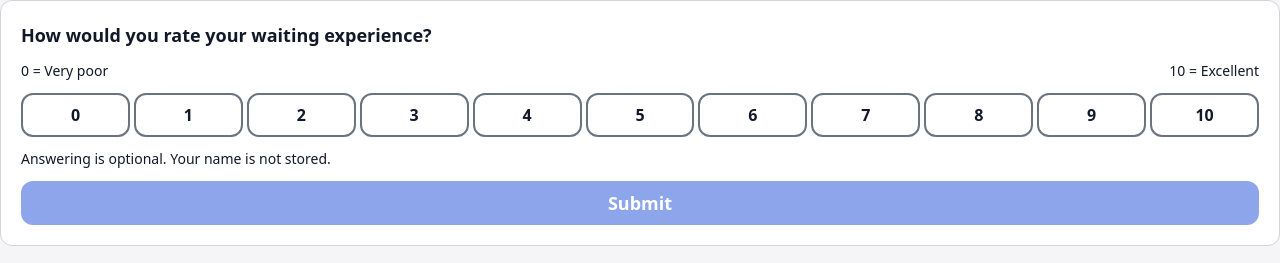
Test: SurveyBox › sends once when Submit is pressed twice while the first save runs
This screenshot has width=1280, height=263.
Later steps or results of the test are not shown.
Click the radio button labelled "6". click: [753, 115]
box: [698, 93, 807, 137]
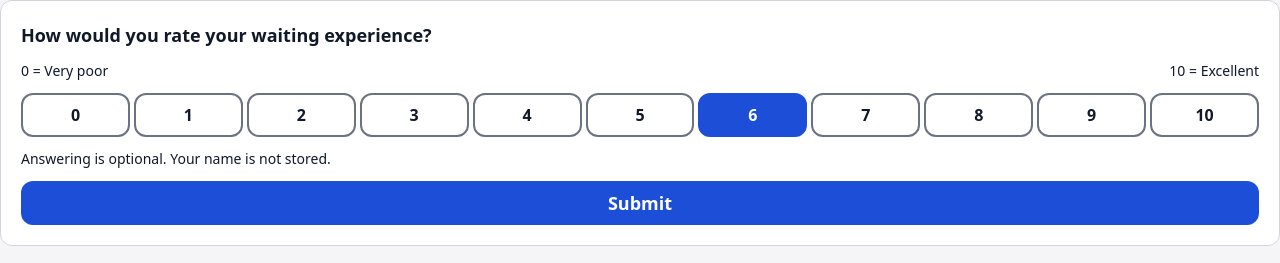
Click the submit button. click: [640, 203]
box: [21, 181, 1259, 225]
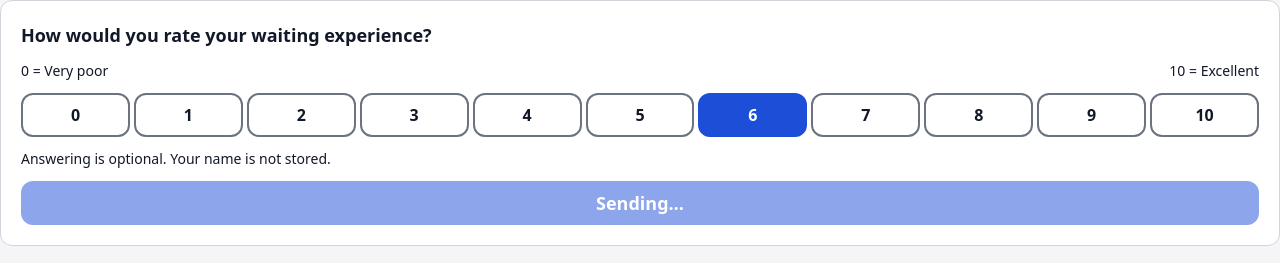
expect the submit button reads "Sending…": met, box [21, 181, 1259, 225]
